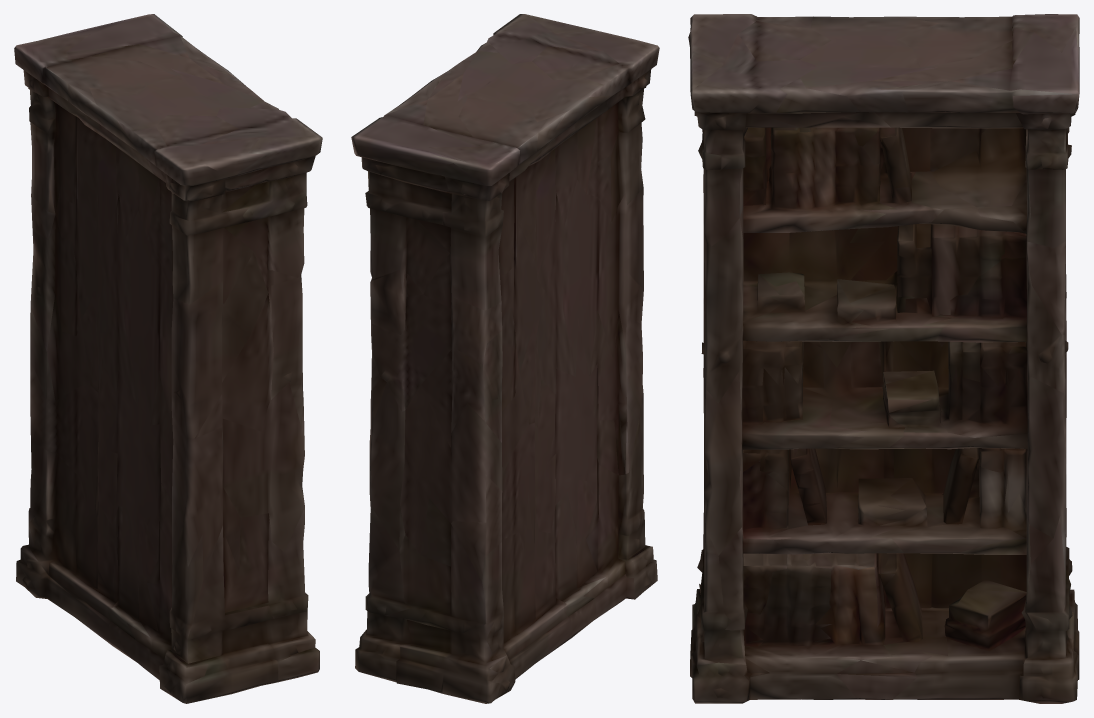
File: archive-bookshelf.glb
3 renders of one model, left to right at view 1: azimuth 30°, elevation 25°; view 2: azimuth 150°, elevation 25°; view 3: azimuth 270°, elevation 25°, orthographic. The views are drawn at different scales.
Parts seen in each view (by area): view 1: tripo_node_5a7843e6-2717-4571-a91a-9f18aa21fc13; view 2: tripo_node_5a7843e6-2717-4571-a91a-9f18aa21fc13; view 3: tripo_node_5a7843e6-2717-4571-a91a-9f18aa21fc13.
Part boxes in pixels (x1,y1,x2,y2): tripo_node_5a7843e6-2717-4571-a91a-9f18aa21fc13: (14,14,322,703); tripo_node_5a7843e6-2717-4571-a91a-9f18aa21fc13: (351,14,659,703); tripo_node_5a7843e6-2717-4571-a91a-9f18aa21fc13: (688,14,1079,703).
Bounding box in the file's own units: 0.2802 × 1 × 0.5771.
1 material, 1 textured.
